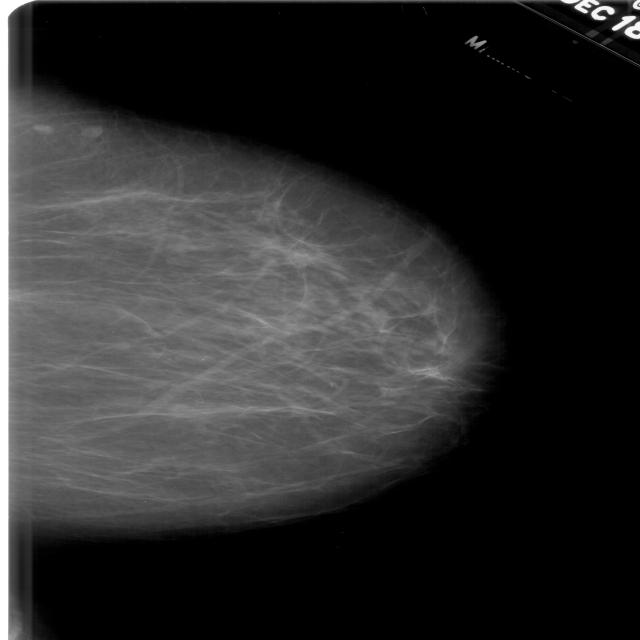cancer: (196, 198, 364, 296), (390, 332, 470, 408)
